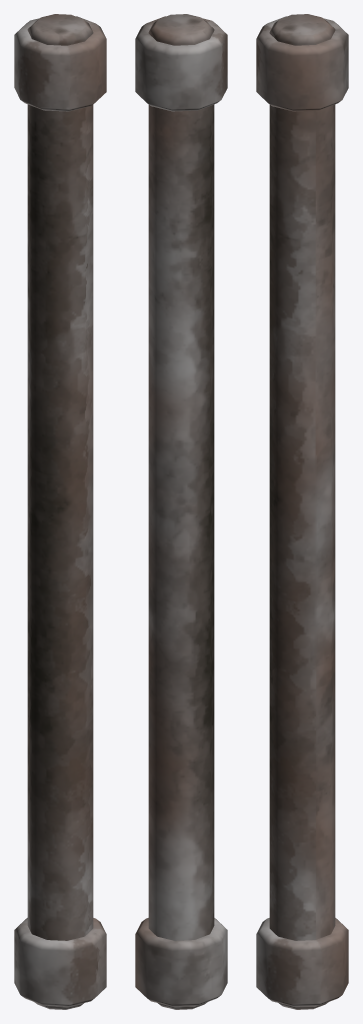
File: sm_metal_pipe_01.fbx
3 views of the same model, side by side, from view 1: azimuth 30°, elevation 25°; view 2: azimuth 150°, elevation 25°; view 3: azimuth 330°, elevation 25° (orthographic).
Visible parts, largest first — view 1: sm_metal_pipe_01; view 2: sm_metal_pipe_01; view 3: sm_metal_pipe_01.
Boxes of the visible parts, left/top/right/bottom form: sm_metal_pipe_01: left=14, top=14, right=106, bottom=1009; sm_metal_pipe_01: left=135, top=14, right=227, bottom=1009; sm_metal_pipe_01: left=256, top=14, right=348, bottom=1009.
Size of the model in its own units: 17.2 by 199 by 16.39.
1 material, 1 textured.
